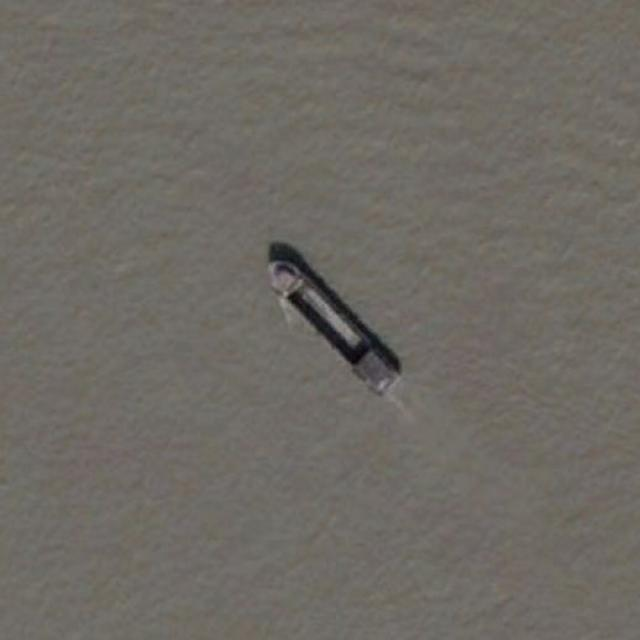ship: (266, 256, 404, 398)
